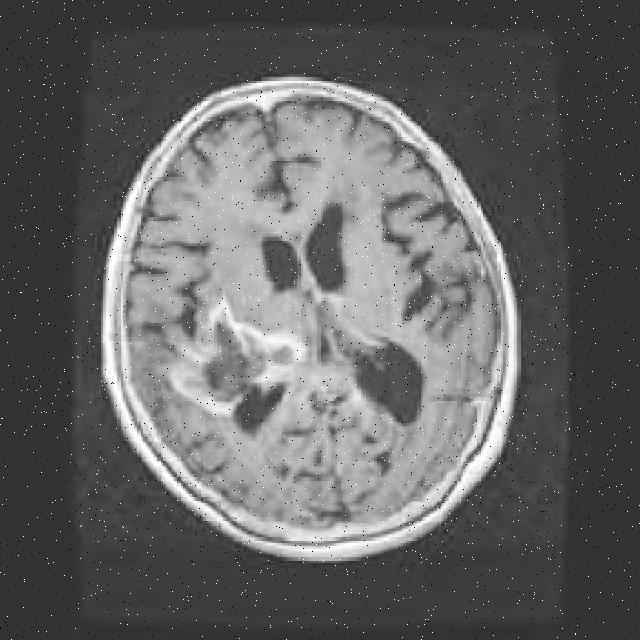EMCI: (166, 286, 254, 428)
